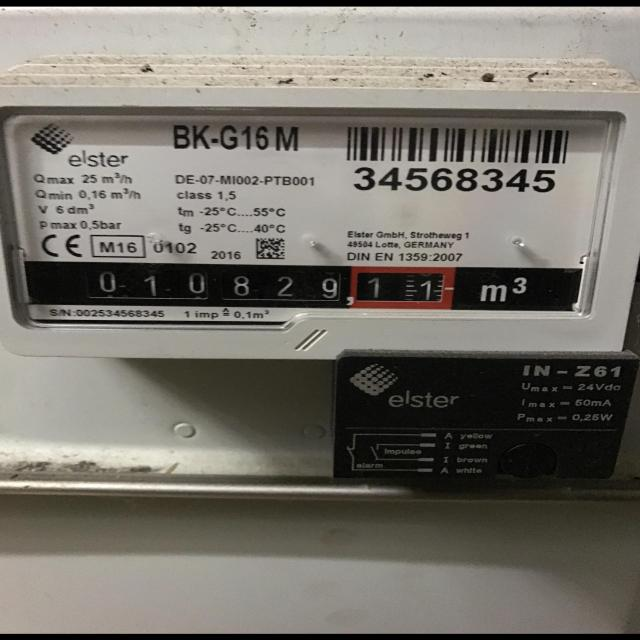gaz_meter: (4, 106, 587, 316)
indication: (76, 261, 455, 310)
